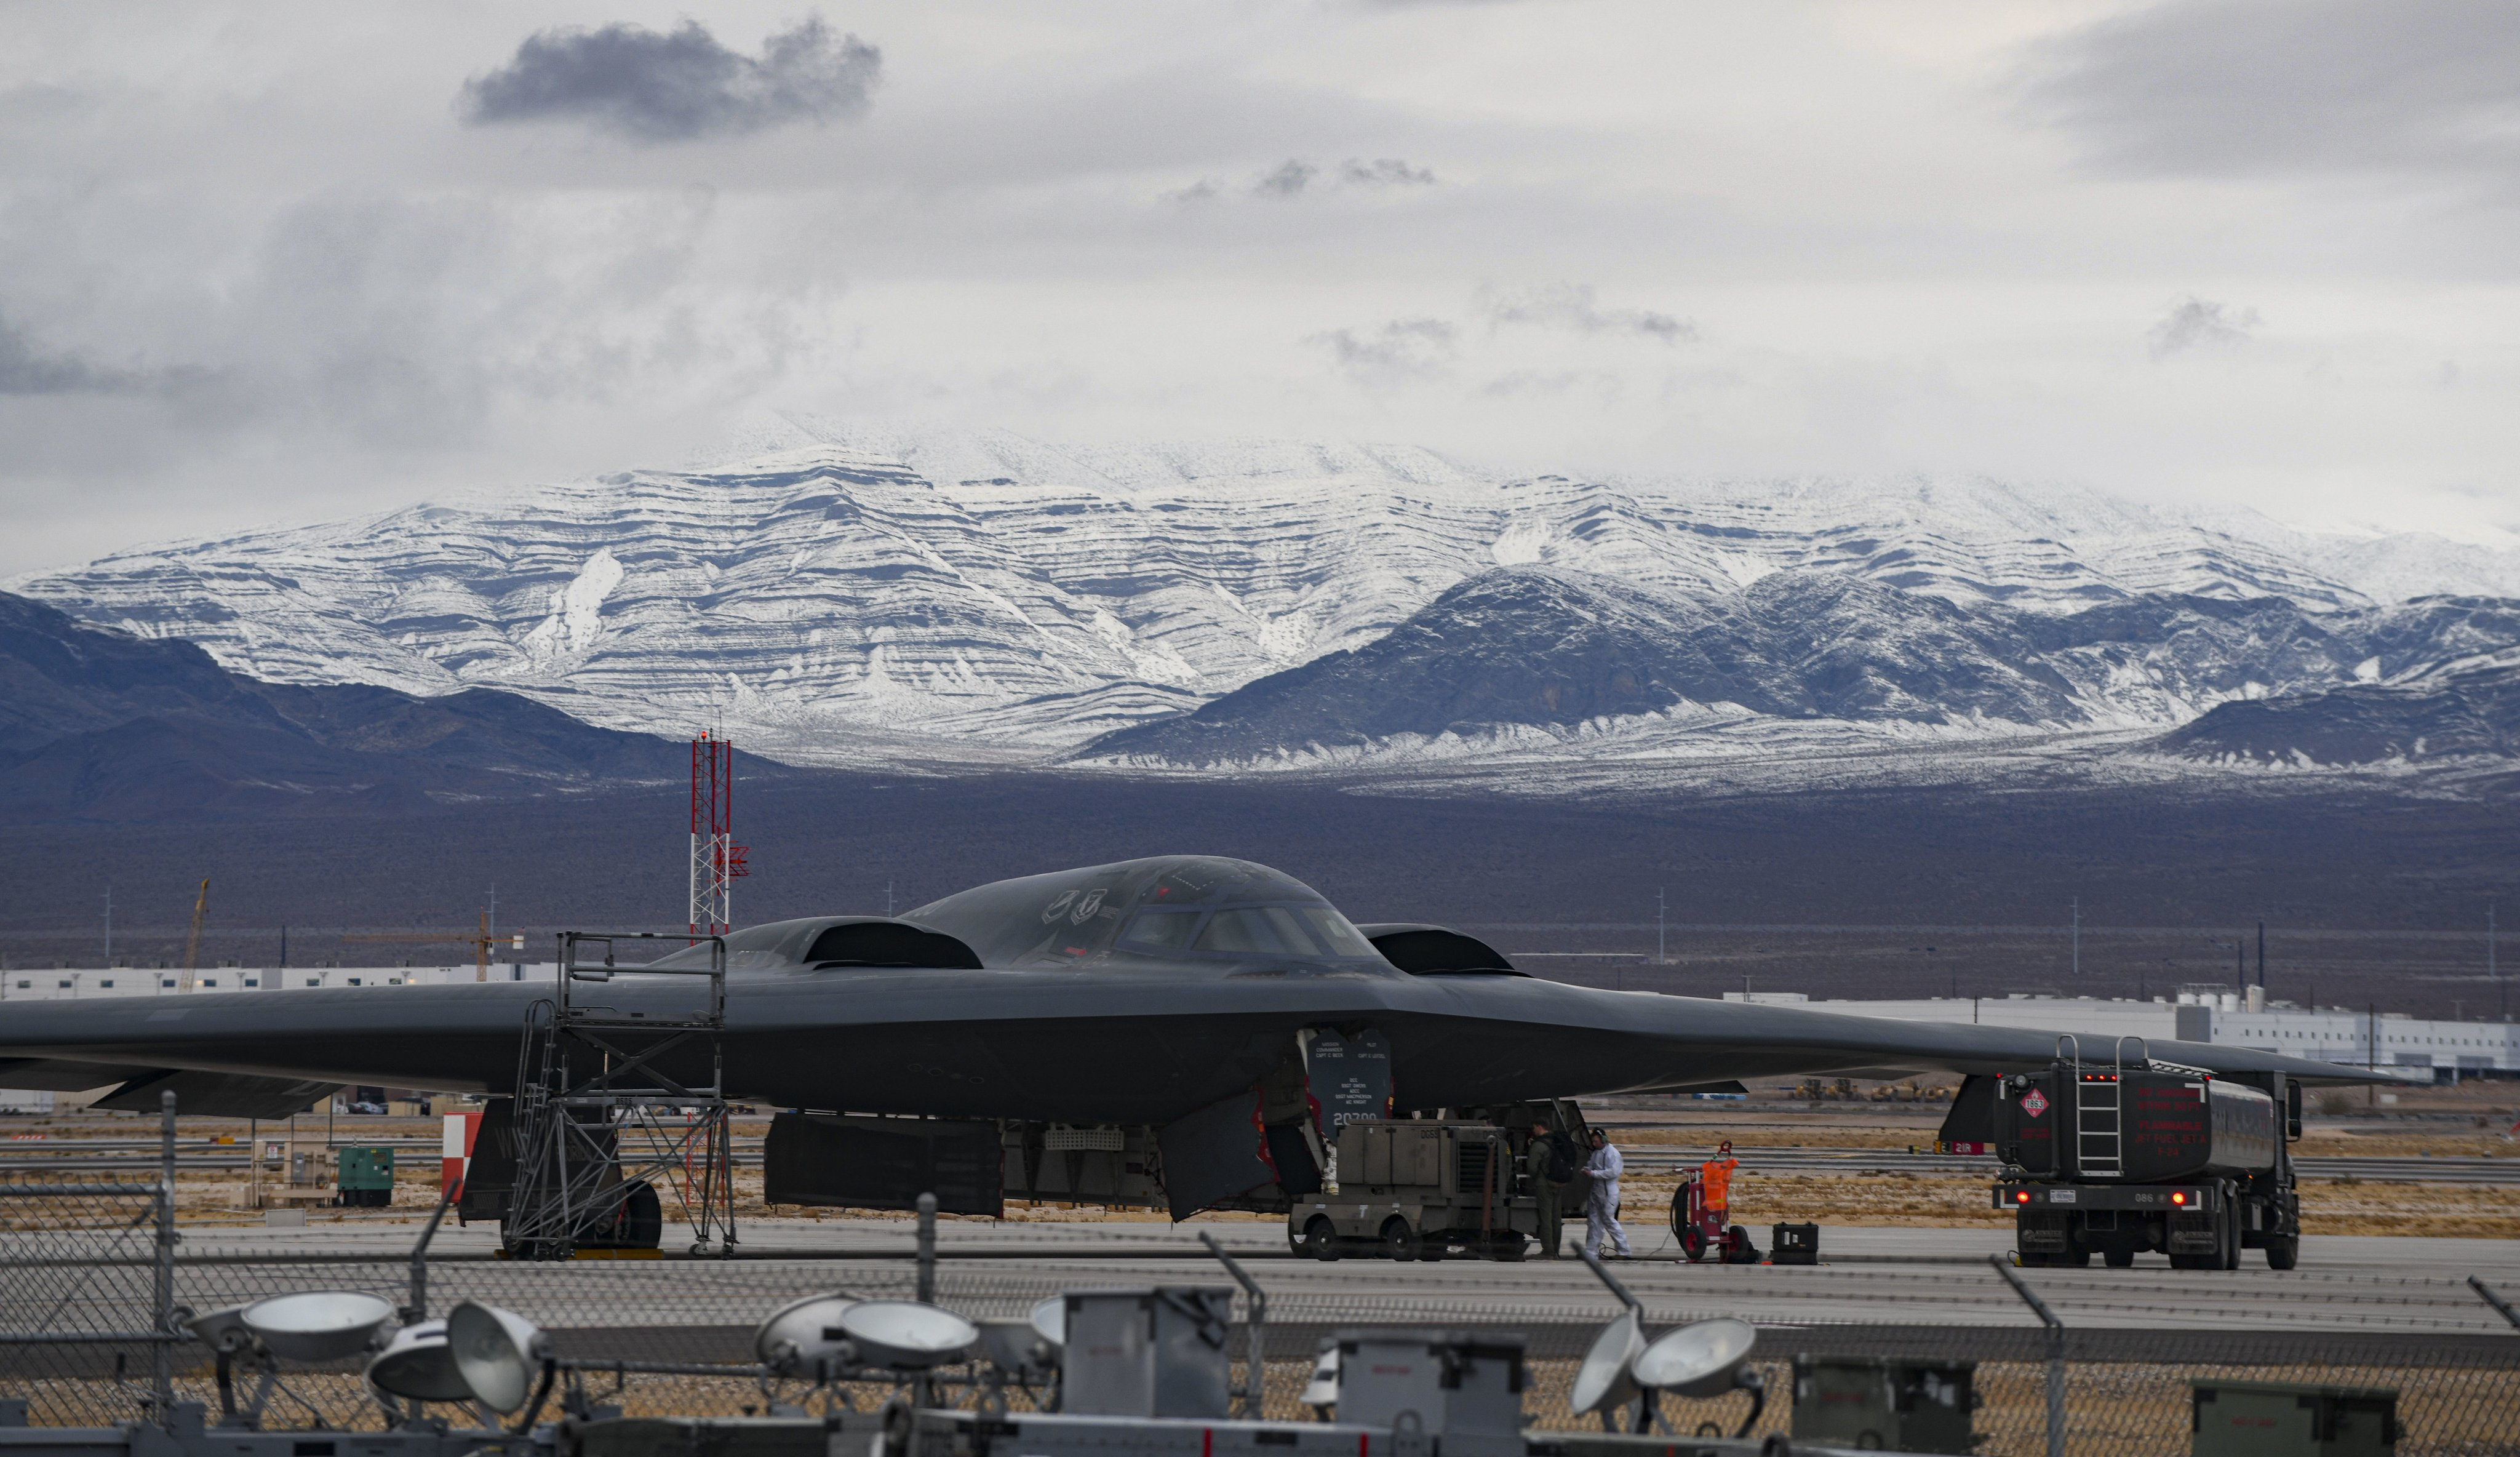B2: (0, 855, 2433, 1259)
